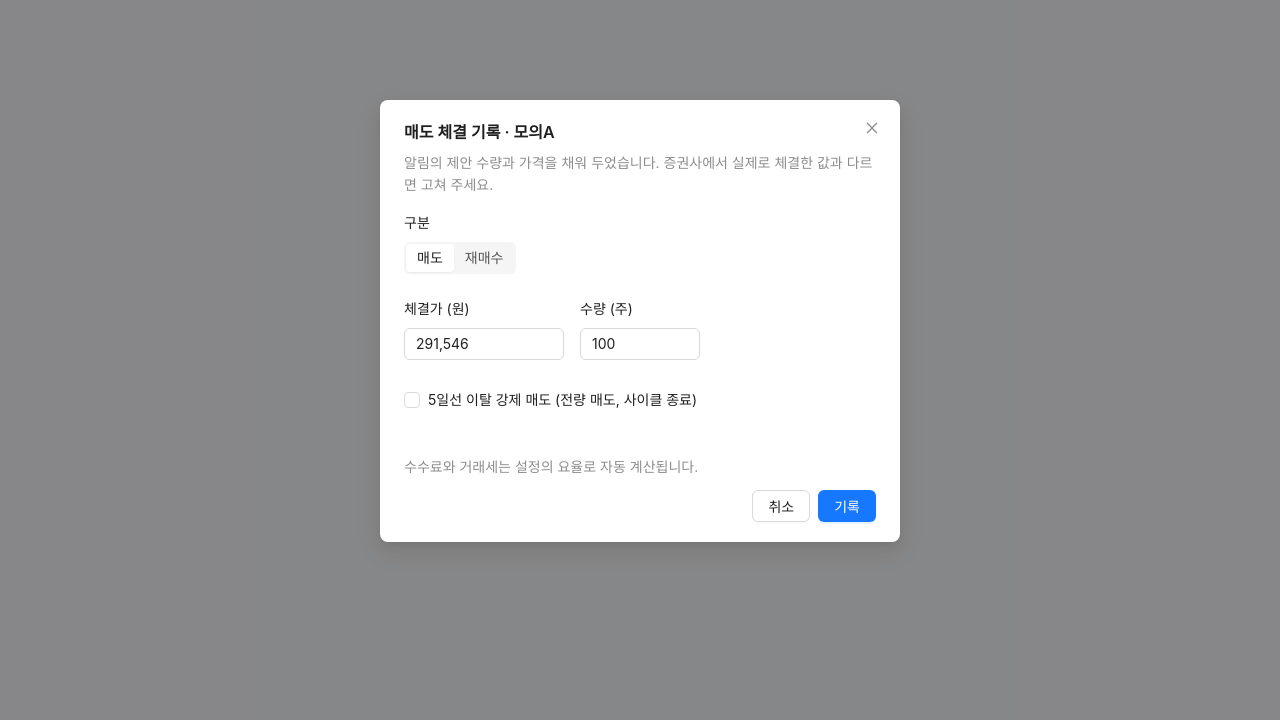
Test: FillModal › marks the alert as read once the fill is recorded, and tells what the sale set up
Click the button "기록": (847, 506) [818, 490, 876, 522]
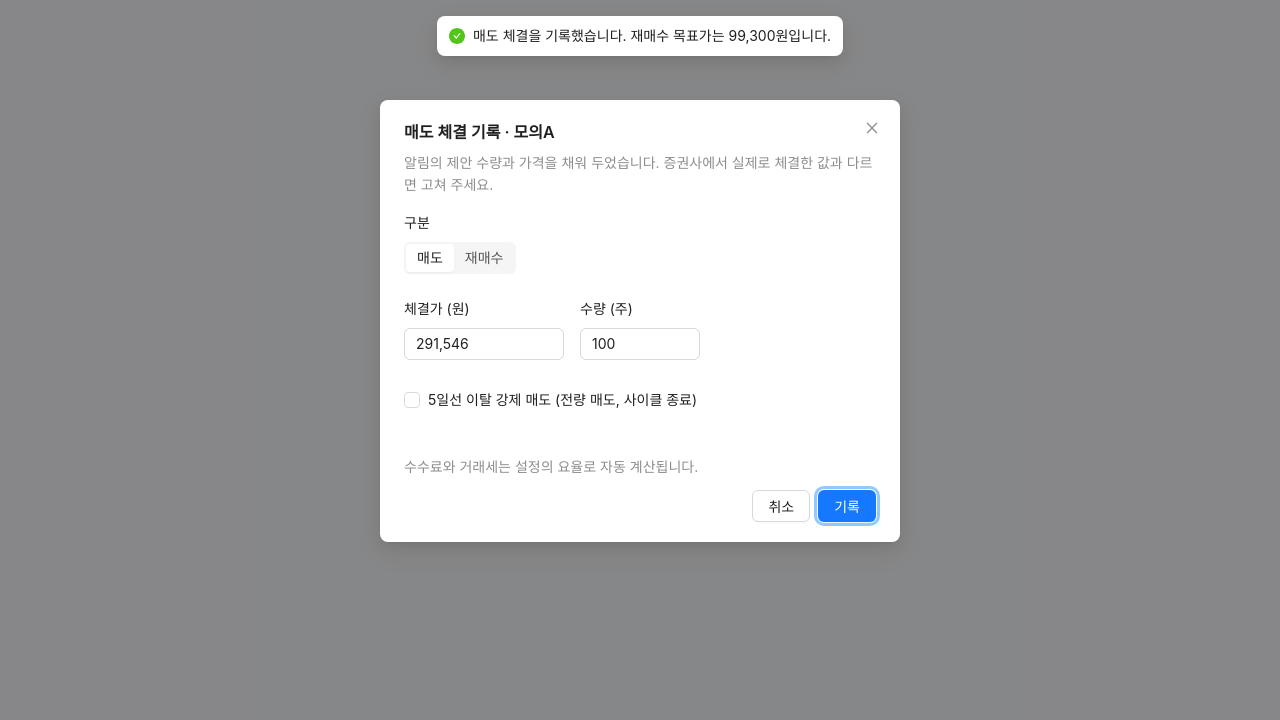
expect the text "매도 체결을 기록했습니다. 재매수 목표가는 99,300원입니다." is shown: met, box [473, 25, 831, 47]
